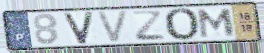8: (32, 12, 61, 47)
M: (198, 7, 236, 39)
O: (162, 7, 200, 42)
V: (95, 9, 131, 44), (62, 10, 96, 45)
Z: (131, 10, 167, 42)
